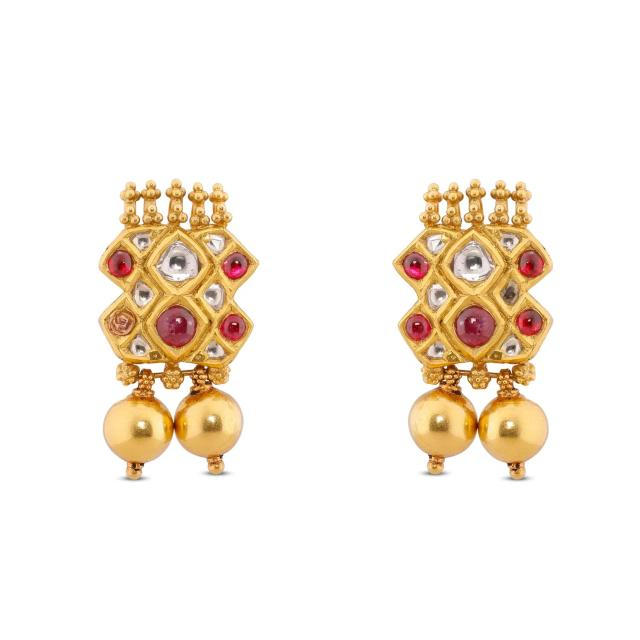missing gem: (109, 310, 135, 334), (500, 277, 521, 306)
